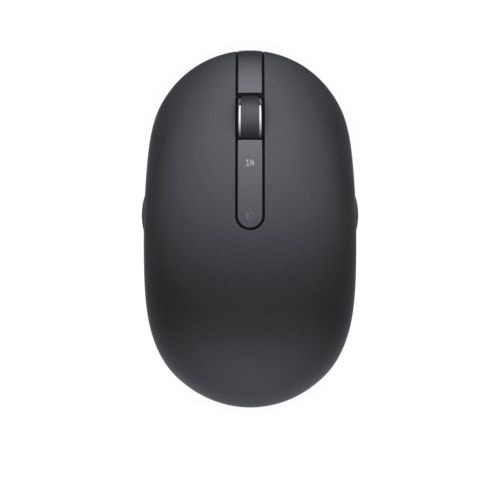mouse: (132, 45, 360, 412)
